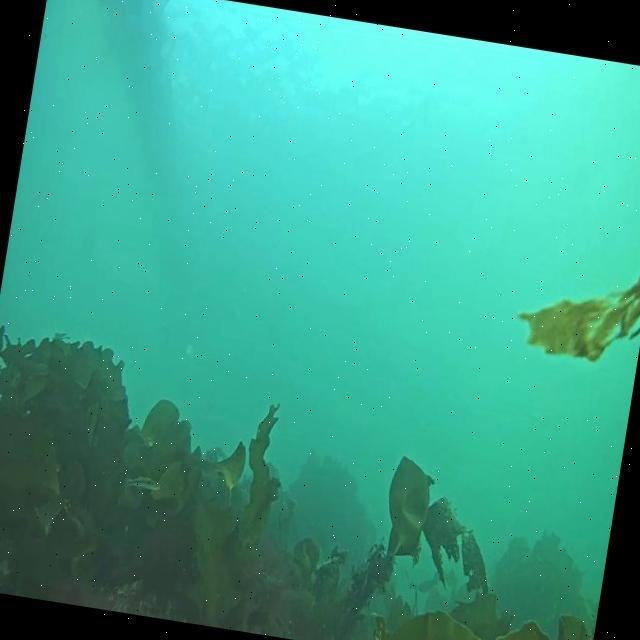fish: (128, 472, 162, 493)
